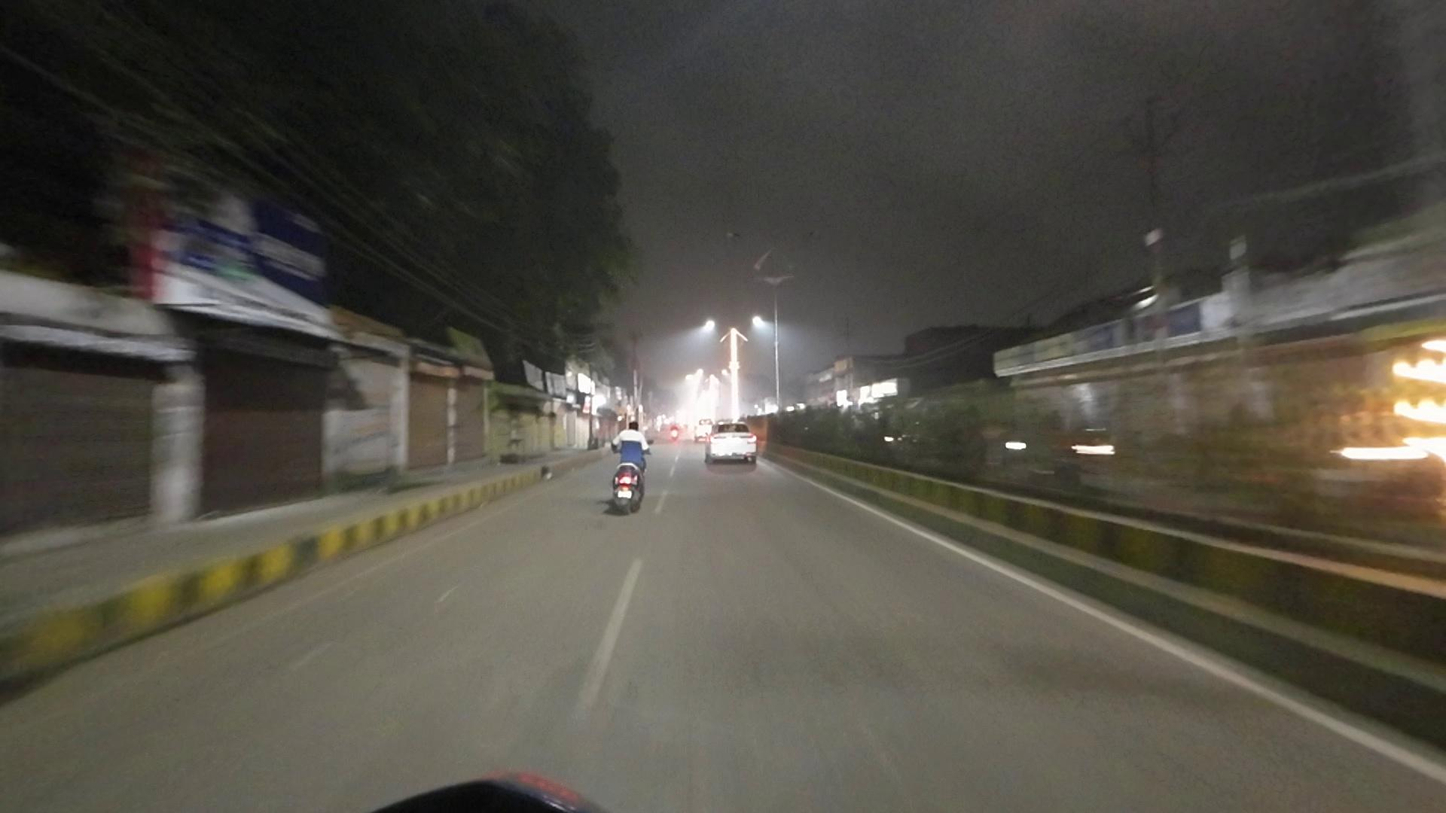streetlight: (726, 229, 773, 246), (779, 229, 818, 240)
